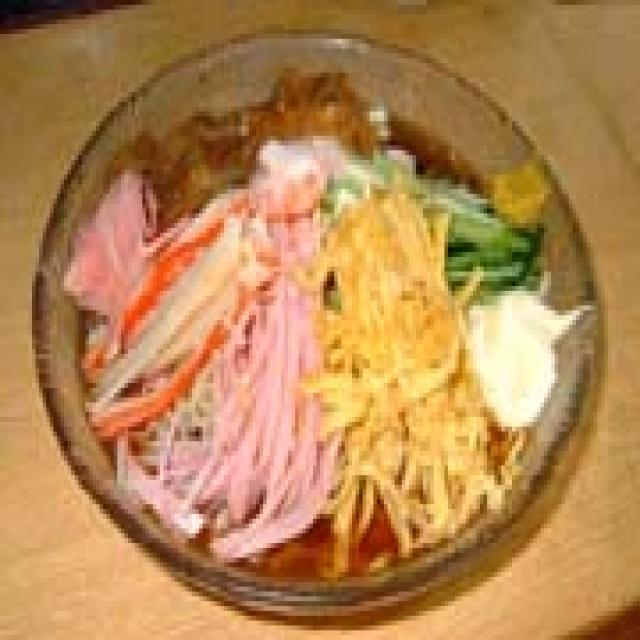面条主食: (21, 14, 601, 611)
